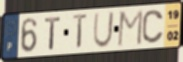6: (20, 16, 40, 55)
C: (141, 8, 166, 45)
M: (116, 8, 145, 48)
T: (72, 12, 90, 52), (44, 15, 63, 51)
U: (92, 10, 116, 49)
